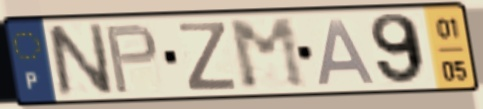9: (369, 11, 431, 89)
A: (314, 16, 379, 88)
M: (224, 15, 311, 93)
N: (42, 20, 117, 101)
P: (102, 21, 161, 96)
Z: (176, 20, 239, 93)
